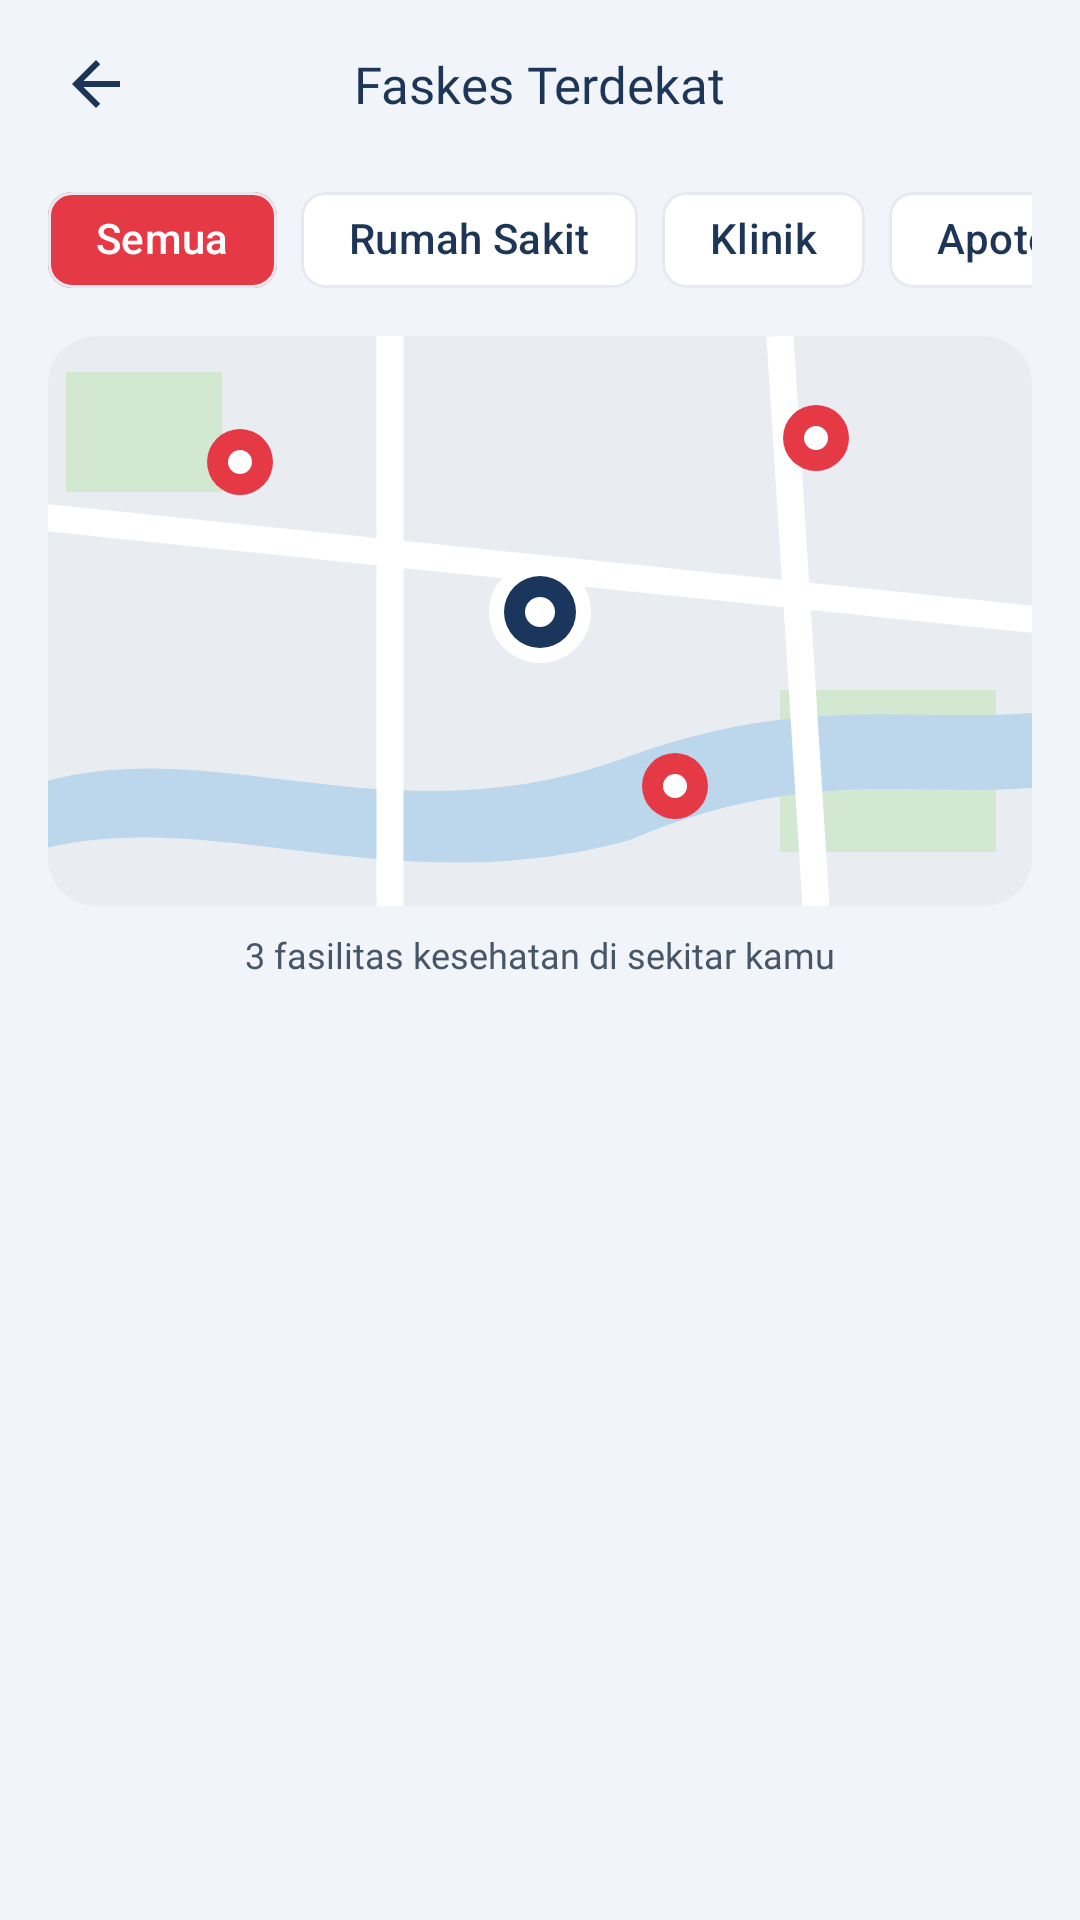

Locate icon controls on the screen. Image size 1080 x 1920, boxes as (x1, y1, x2, y2).
Kembali: (72, 60, 120, 108)
